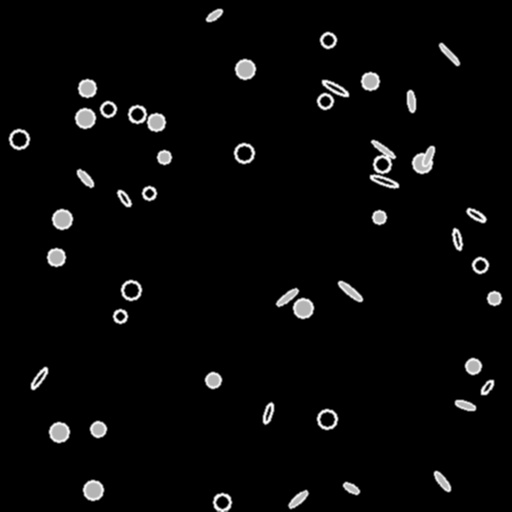pseudomonas: (437, 42, 461, 66), (337, 280, 363, 302), (321, 78, 349, 98), (29, 366, 49, 390), (371, 139, 395, 159), (275, 287, 299, 307), (370, 173, 398, 189), (287, 489, 309, 509), (433, 470, 451, 492), (465, 206, 487, 224), (76, 169, 94, 187), (116, 188, 132, 208), (454, 398, 476, 412), (421, 145, 435, 167), (262, 402, 274, 424), (479, 379, 495, 395), (342, 481, 360, 495), (206, 8, 222, 22), (406, 90, 416, 112), (452, 228, 462, 250)
synechocystis: (318, 410, 336, 428), (53, 210, 71, 228), (236, 60, 254, 78), (10, 130, 28, 148), (413, 154, 431, 172), (84, 481, 102, 499), (50, 423, 68, 441), (76, 109, 94, 127), (122, 281, 140, 299), (294, 299, 312, 317), (235, 144, 253, 162), (79, 80, 95, 96), (374, 156, 390, 172), (362, 73, 378, 89), (148, 114, 164, 130), (129, 106, 145, 122), (48, 249, 64, 265), (214, 494, 230, 510), (206, 373, 220, 387), (101, 102, 115, 116), (321, 33, 335, 47), (318, 94, 332, 108), (473, 258, 487, 272), (466, 359, 480, 373), (91, 422, 105, 436), (114, 310, 126, 322), (373, 211, 385, 223), (488, 292, 500, 304), (158, 151, 170, 163), (143, 187, 155, 199)
